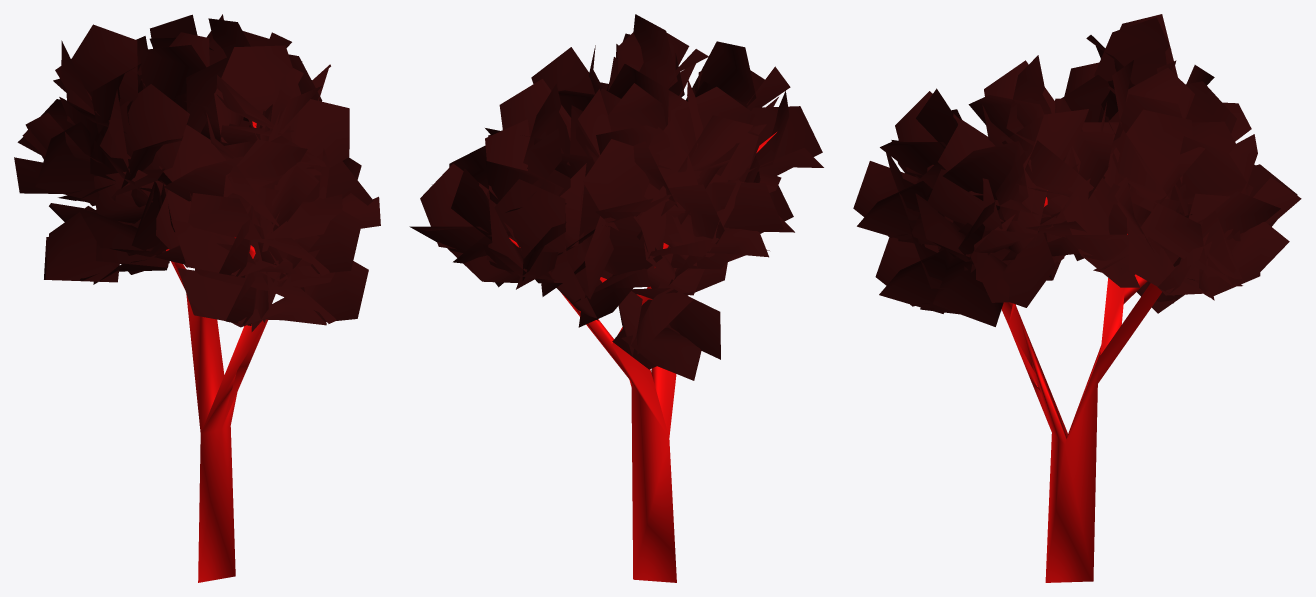
The model's file is SM_Tree_Generic_01_LOD01.fbx.
3 renders of one model, left to right at view 1: azimuth 30°, elevation 25°; view 2: azimuth 150°, elevation 25°; view 3: azimuth 270°, elevation 25°, orthographic.
Parts seen in each view (by area): view 1: SM_Tree_Generic_01_LOD01; view 2: SM_Tree_Generic_01_LOD01; view 3: SM_Tree_Generic_01_LOD01.
Boxes of the visible parts, left/top/right/bottom form: SM_Tree_Generic_01_LOD01: left=14, top=14, right=380, bottom=582; SM_Tree_Generic_01_LOD01: left=409, top=14, right=823, bottom=582; SM_Tree_Generic_01_LOD01: left=853, top=14, right=1301, bottom=582.
Size of the model in its own units: 341 by 553 by 423.
